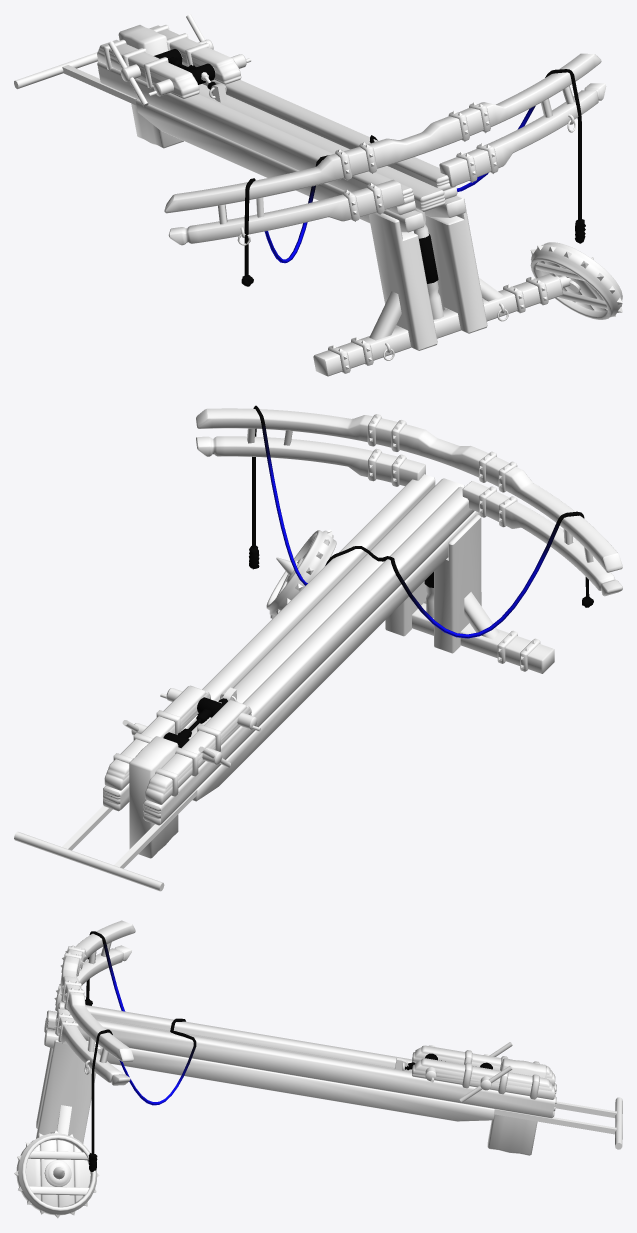
The model's file is SM_Ballista_C.fbx.
3 views of the same model, one above another, from view 1: azimuth 30°, elevation 25°; view 2: azimuth 150°, elevation 25°; view 3: azimuth 270°, elevation 25° (orthographic). The views are drawn at different scales.
Visible parts, largest first — view 1: SM_Ballista_C_LOD0; view 2: SM_Ballista_C_LOD0; view 3: SM_Ballista_C_LOD0.
Boxes of the visible parts, box(x1,y1,x2,y2) form: SM_Ballista_C_LOD0: box(14, 14, 622, 376); SM_Ballista_C_LOD0: box(14, 405, 622, 891); SM_Ballista_C_LOD0: box(14, 920, 622, 1218).
Size of the model in its own units: 363 by 547 by 185.
